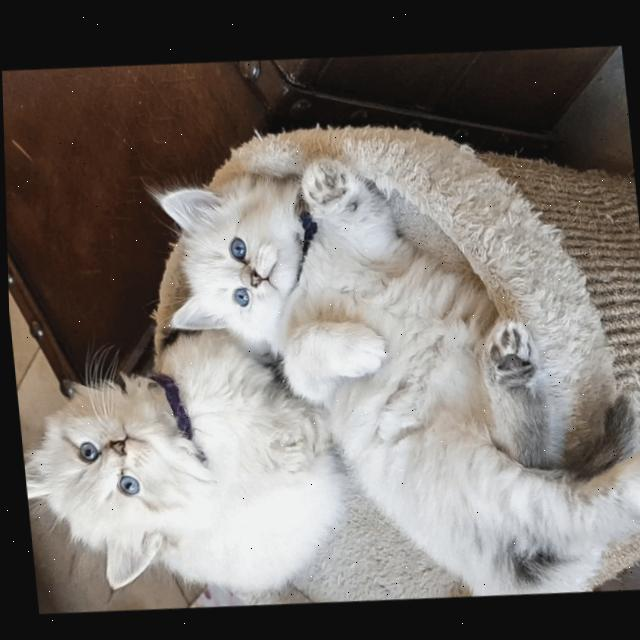Neva Masquerade: (145, 125, 640, 618), (9, 328, 338, 607)
